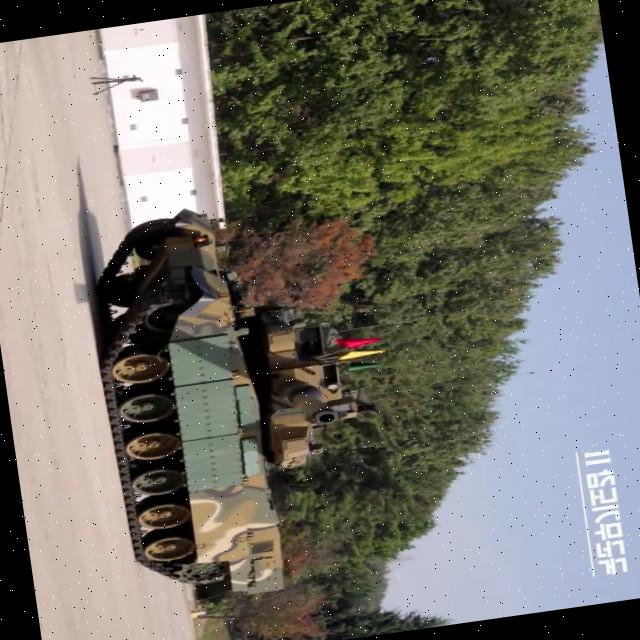korea tank: (76, 183, 404, 614)
